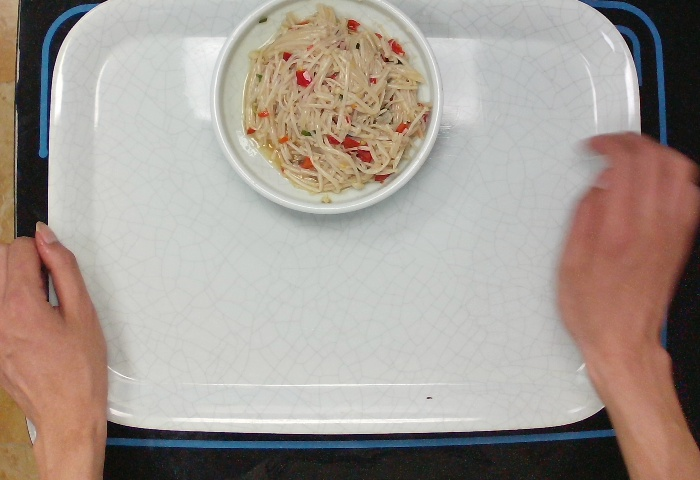JYsf-Xiao_Yuan_Pan: (210, 1, 441, 217)
